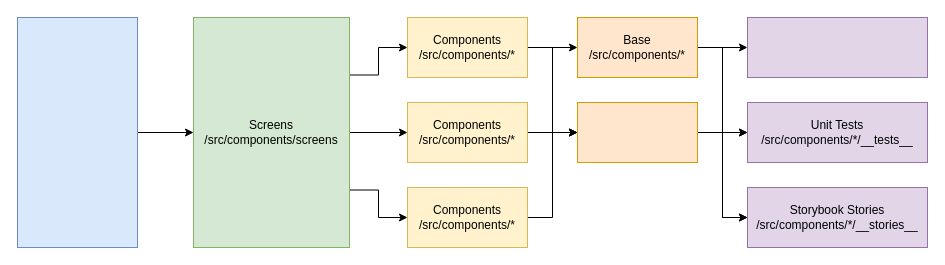
The diagram is 945 pixels wide and 265 high, and some of its shapes have lost their labels. Each missing label, with the box of its shape:
Composite /src/components/*: (576, 102, 698, 162)
Locale Translations /src/components/*/locales: (746, 16, 928, 78)
Pages /src/pages: (16, 16, 138, 248)
